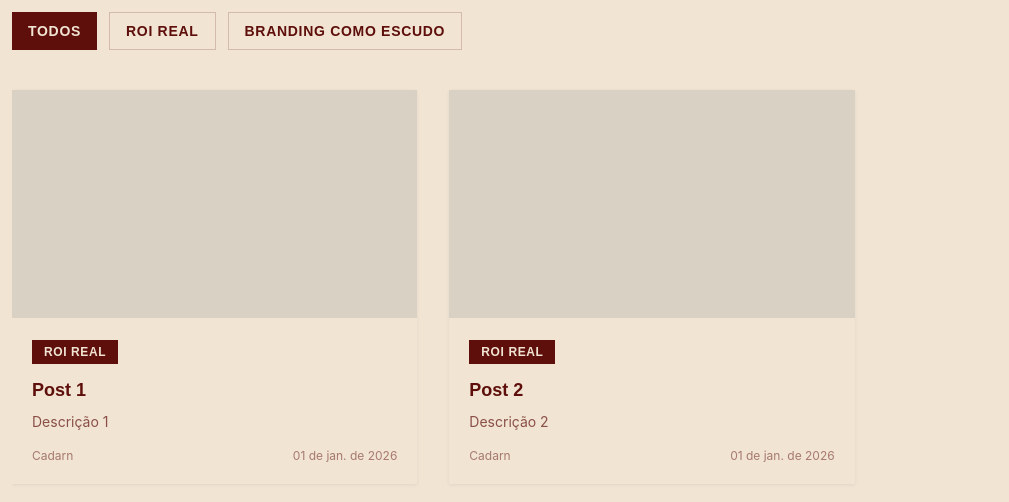
Scenario: BlogFilter › shows empty state when category has no posts
Click the button "Branding como Escudo" at point(345, 31), box x1=228 y1=12 x2=462 y2=50
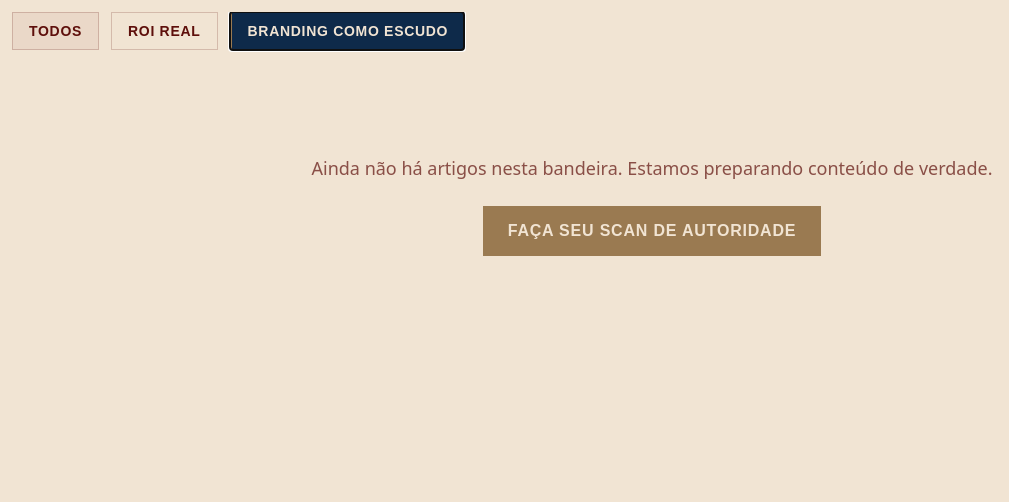
Check: the text "Ainda não há artigos" is shown, box x1=312 y1=156 x2=992 y2=180
Check: the link "Faça seu Scan de Autoridade" is shown, box x1=483 y1=206 x2=821 y2=256
